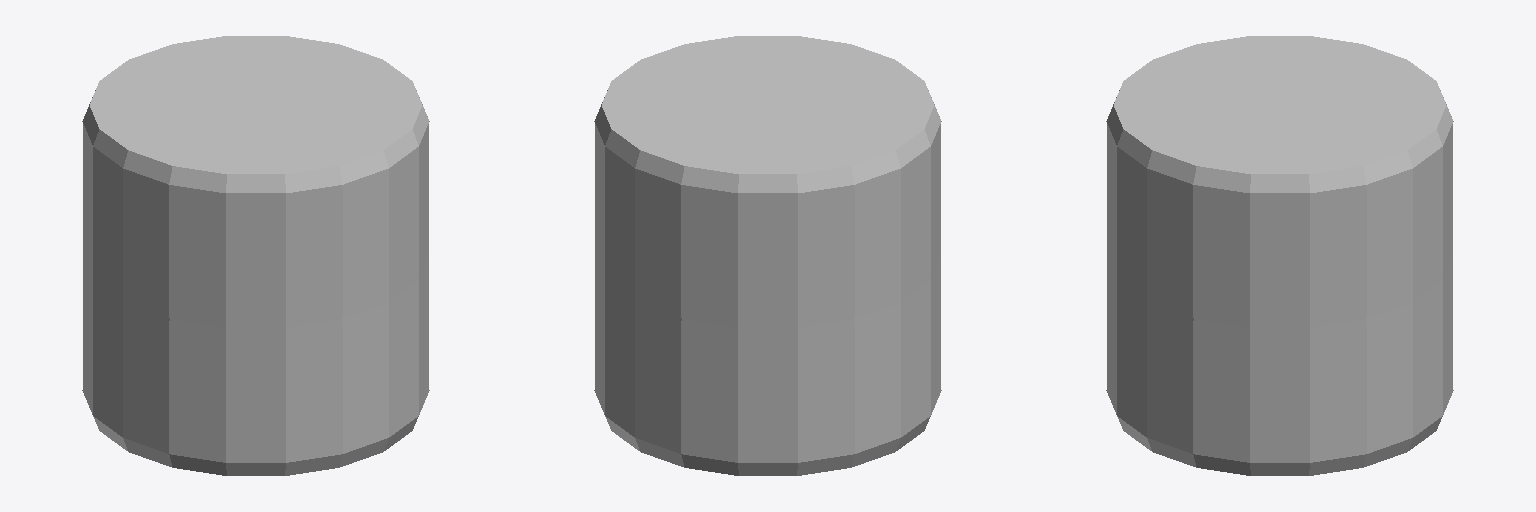
File: marshmallow.obj
3 views of the same model, side by side, from view 1: azimuth 30°, elevation 25°; view 2: azimuth 150°, elevation 25°; view 3: azimuth 270°, elevation 25° (orthographic).
Visible parts, largest first — view 1: Cylinder.003_Cylinder.004; view 2: Cylinder.003_Cylinder.004; view 3: Cylinder.003_Cylinder.004.
Boxes of the visible parts, x1,y1,x2,y2 form: Cylinder.003_Cylinder.004: [82, 36, 429, 475]; Cylinder.003_Cylinder.004: [594, 36, 941, 475]; Cylinder.003_Cylinder.004: [1106, 36, 1453, 475].
Bounding box in the file's own units: 4.61 × 4.5 × 4.69.